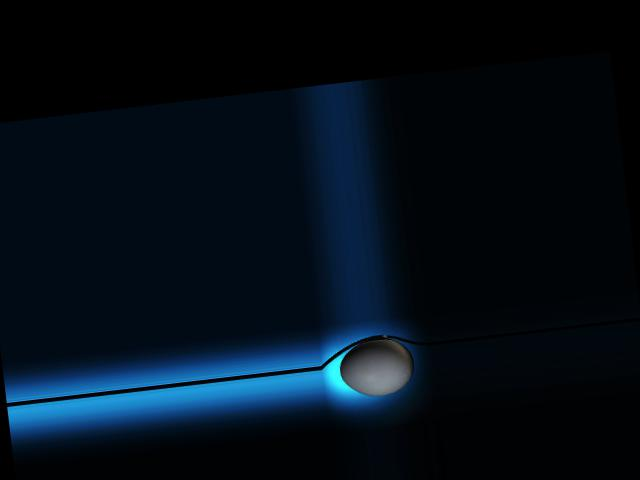egg: (337, 334, 417, 399)
